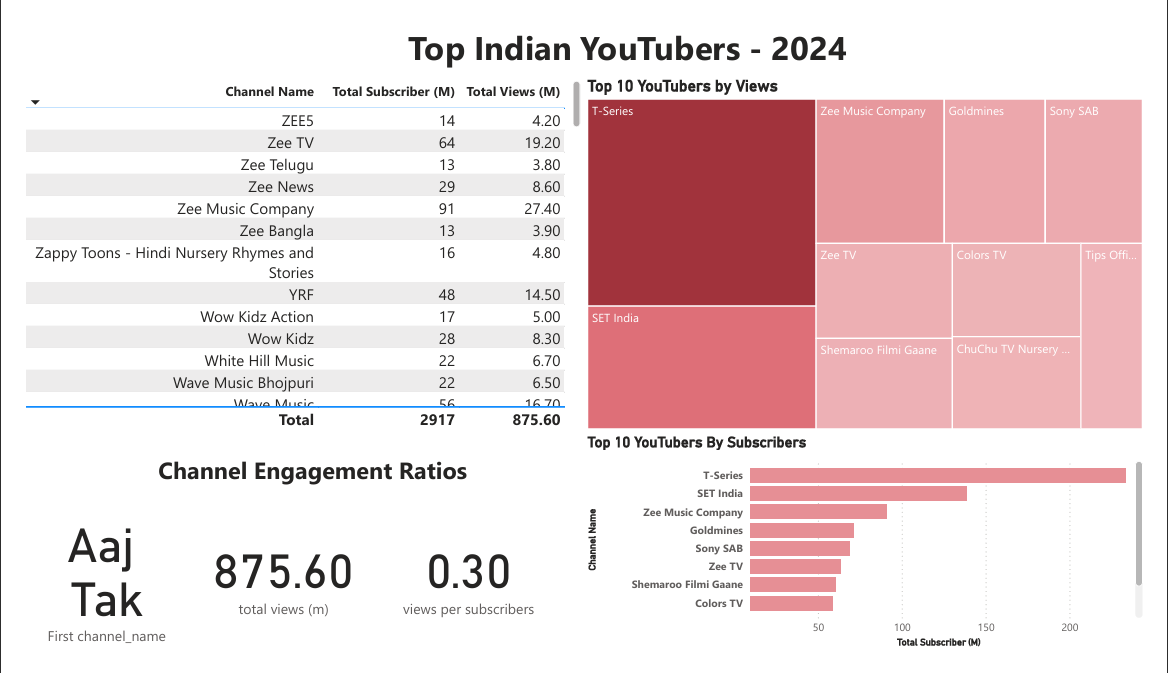

The dashboard page shown, as its layout file describes it:
{"tool":"powerbi","page":{"name":"Page 1","canvas":[1280,720],"ordinal":0},"visuals":[{"type":"textbox","box":[426.1,0,535.9,63.9],"z":0},{"type":"tableEx","fields":{"Values":["public view_youtuber.channel_name","public view_youtuber.total sumbscriber (M)","public view_youtuber.total views (m)"]},"box":[0,63.9,640.8,406.5],"z":1000},{"type":"treemap","title":"Top 10 YouTubers by Views","fields":{"Group":["public view_youtuber.channel_name"],"Values":["public view_youtuber.total views (m)"]},"box":[639.2,63.9,640.8,406.5],"z":2000},{"type":"card","fields":{"Values":["Min(public view_youtuber.channel_name)"]},"box":[0,544.1,195,175.4],"z":2001},{"type":"card","fields":{"Values":["public view_youtuber.total views (m)"]},"box":[195,544.1,206.5,175.4],"z":2002},{"type":"card","fields":{"Values":["public view_youtuber.views per subscribers"]},"box":[401.5,544.1,214.7,175.4],"z":2003},{"type":"clusteredBarChart","title":"Top 10 YouTubers By Subscribers","fields":{"Category":["public view_youtuber.channel_name"],"Y":["public view_youtuber.total sumbscriber (M)"]},"box":[639.2,470.4,640.8,249.1],"z":2004},{"type":"textbox","box":[150.8,488.4,370.4,55.7],"z":2005}]}

Visuals, with their boxes in screenshot pixels (x1, y1, x2, y2), scaled from the page's 1280x720 canvas onto the 1168x673 screenshot:
textbox: [x1=389, y1=0, x2=878, y2=60]
tableEx - public view_youtuber.channel_name x public view_youtuber.total sumbscriber (M): [x1=0, y1=60, x2=585, y2=440]
"Top 10 YouTubers by Views" treemap: [x1=583, y1=60, x2=1167, y2=440]
card - Min(public view_youtuber.channel_name): [x1=0, y1=509, x2=178, y2=672]
card - public view_youtuber.total views (m): [x1=178, y1=509, x2=366, y2=672]
card - public view_youtuber.views per subscribers: [x1=366, y1=509, x2=562, y2=672]
"Top 10 YouTubers By Subscribers" clusteredBarChart: [x1=583, y1=440, x2=1167, y2=672]
textbox: [x1=138, y1=457, x2=476, y2=509]
